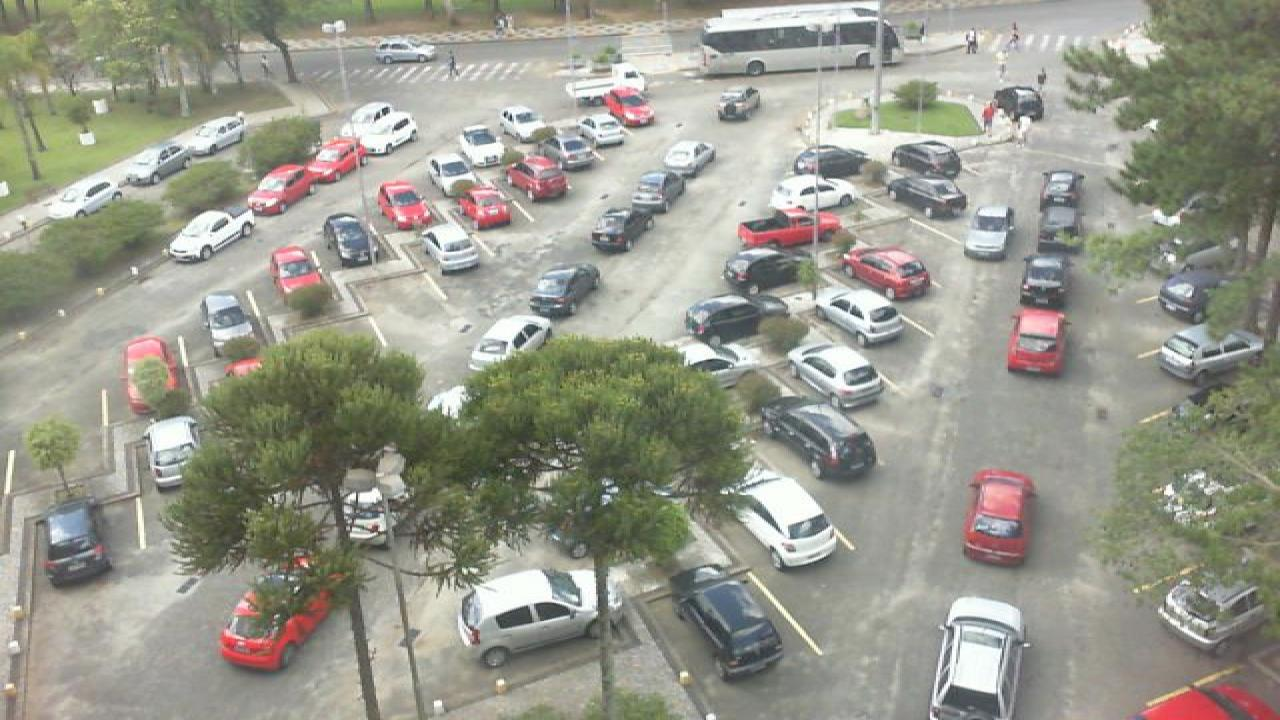Car: (670, 562, 786, 680), (452, 567, 602, 655), (220, 554, 332, 668), (928, 595, 1028, 720), (730, 471, 838, 567), (758, 396, 878, 479), (1150, 574, 1276, 652), (958, 468, 1034, 566), (34, 495, 114, 586), (1158, 324, 1266, 385), (788, 343, 886, 406), (464, 312, 556, 374), (808, 287, 906, 344), (1134, 682, 1280, 720), (166, 208, 258, 264), (118, 334, 178, 418), (682, 294, 790, 340), (840, 244, 932, 297), (718, 248, 818, 294), (1004, 308, 1068, 377), (736, 207, 846, 247), (340, 466, 396, 543), (144, 414, 200, 490), (198, 291, 258, 359), (528, 261, 600, 317), (38, 175, 126, 220), (564, 63, 652, 108), (676, 338, 770, 380), (1156, 271, 1228, 323), (882, 174, 970, 216), (248, 163, 314, 217), (766, 174, 862, 210), (120, 140, 196, 184), (786, 142, 872, 180), (414, 226, 482, 274), (890, 138, 968, 178), (270, 244, 328, 297), (322, 212, 378, 266), (376, 178, 432, 232), (960, 206, 1014, 261), (1018, 254, 1068, 313), (506, 154, 570, 200), (352, 112, 418, 156), (454, 181, 512, 231), (302, 136, 364, 182), (588, 206, 646, 255), (1032, 212, 1084, 266), (182, 111, 246, 153), (1034, 170, 1084, 223), (426, 150, 480, 195), (548, 125, 600, 169), (658, 139, 714, 179), (988, 84, 1044, 124), (460, 124, 508, 168), (604, 87, 656, 127), (626, 171, 672, 214), (498, 105, 546, 143), (716, 84, 764, 120), (372, 38, 436, 63), (346, 102, 398, 131)
